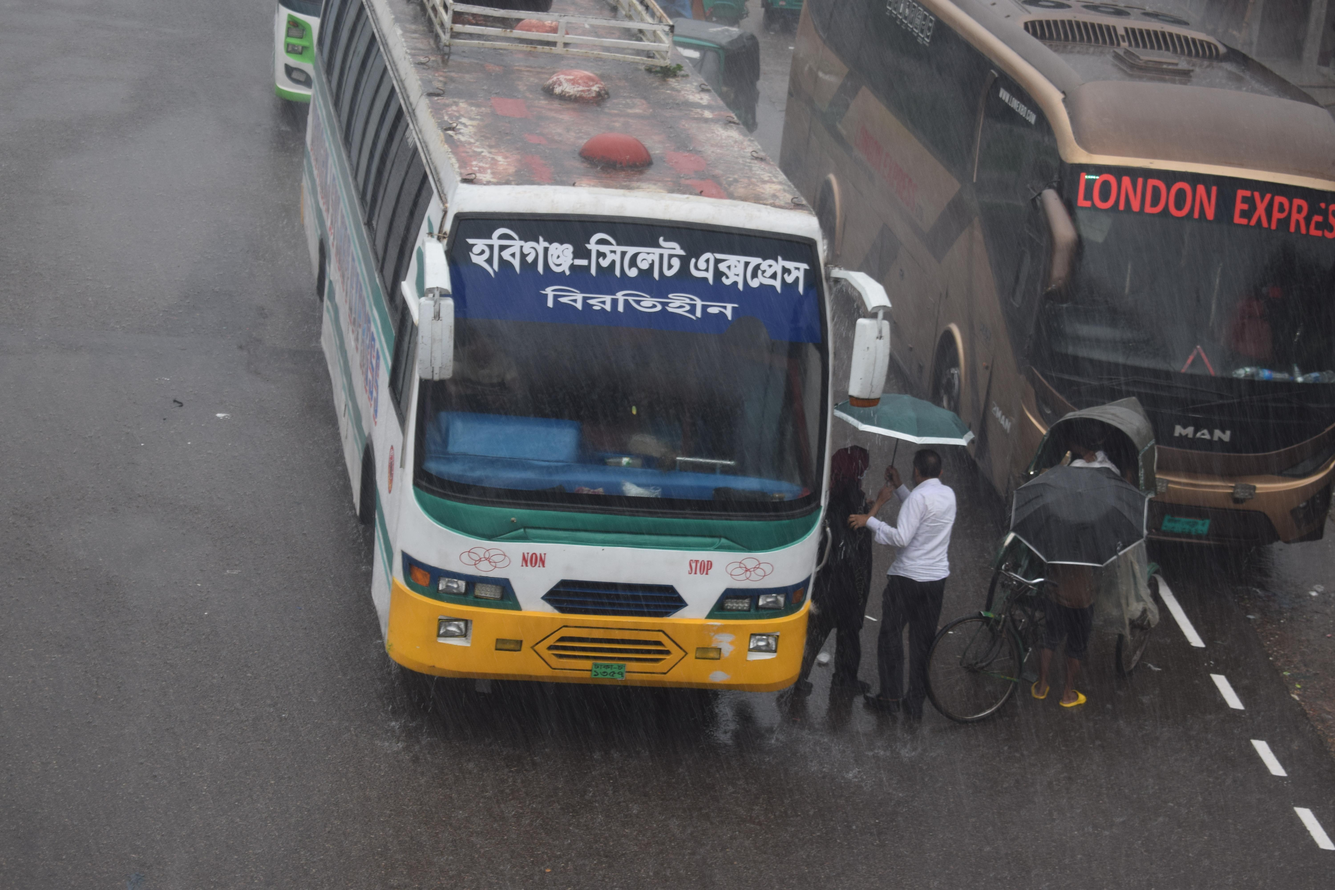Bus: (238, 0, 878, 752), (732, 0, 1335, 560)
Car: (910, 389, 1200, 741)
